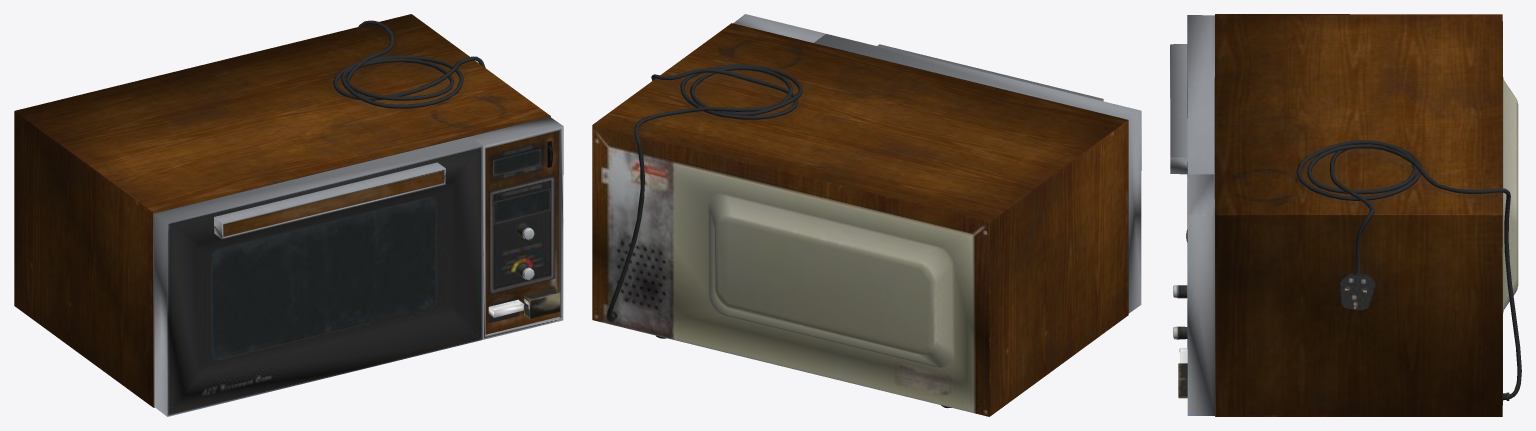
File: vintage_microwave.glb
3 renders of one model, left to right at view 1: azimuth 30°, elevation 25°; view 2: azimuth 150°, elevation 25°; view 3: azimuth 270°, elevation 25°, orthographic. The views are drawn at different scales.
Parts seen in each view (by area): view 1: vintage_microwave; view 2: vintage_microwave; view 3: vintage_microwave.
Boxes of the visible parts, x1=… form: vintage_microwave: x1=14, y1=14, x2=563, y2=416; vintage_microwave: x1=592, y1=14, x2=1141, y2=416; vintage_microwave: x1=1170, y1=14, x2=1521, y2=416.
Bounding box in the file's own units: 1.07 × 0.5258 × 0.7456.
2 materials, 2 textured.
